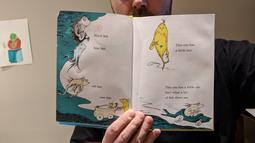text block: (162, 83, 203, 101), (171, 41, 197, 53), (90, 44, 108, 53), (91, 82, 108, 90), (96, 93, 113, 101), (93, 33, 111, 39)
